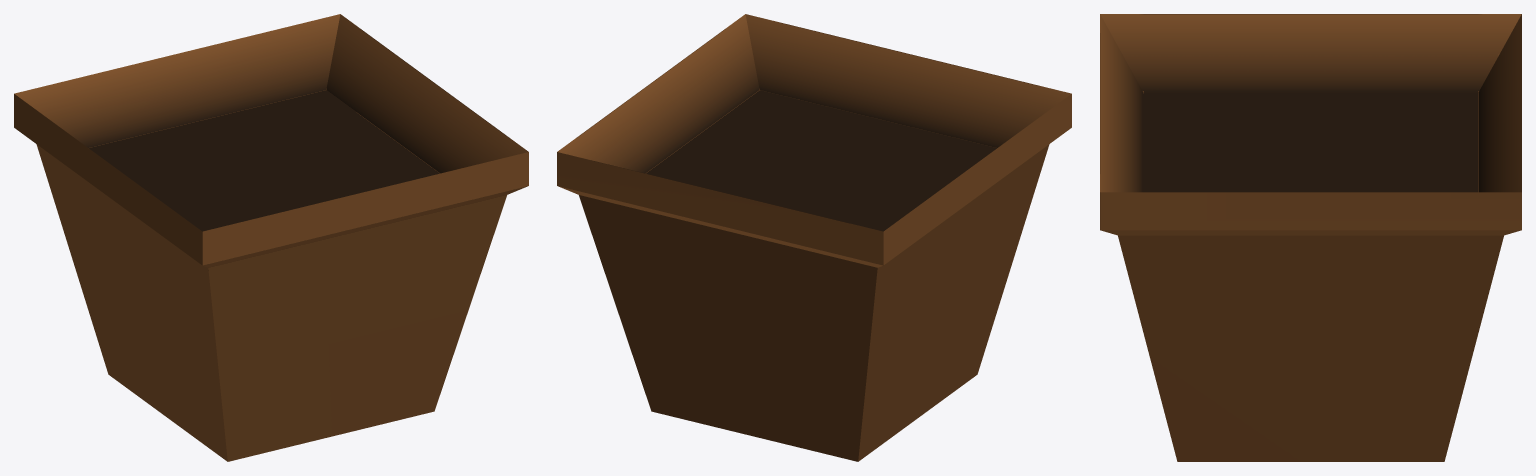
The model's file is plant pot.fbx.
3 views of the same model, side by side, from view 1: azimuth 30°, elevation 25°; view 2: azimuth 150°, elevation 25°; view 3: azimuth 270°, elevation 25° (orthographic). The views are drawn at different scales.
Visible parts, largest first — view 1: pot; view 2: pot; view 3: pot.
Part boxes in pixels (x1,y1,x2,y2): pot: (14, 14, 528, 461); pot: (557, 14, 1071, 461); pot: (1100, 14, 1521, 461).
Size of the model in its own units: 568 by 450 by 568.
